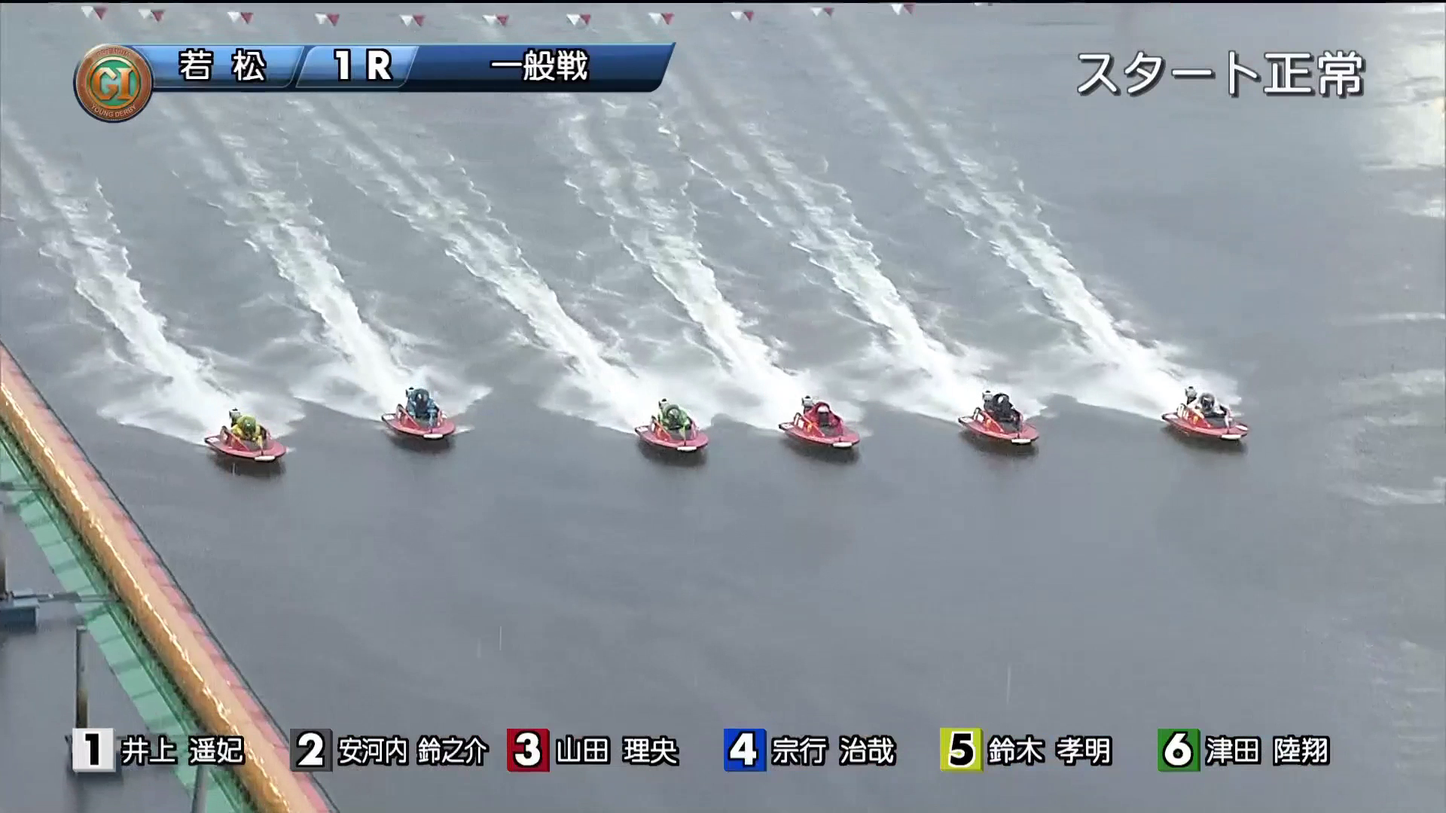１号艇: (1180, 412, 1257, 452)
２号艇: (770, 349, 859, 387)
３号艇: (713, 378, 804, 419)
４号艇: (662, 400, 767, 443)
５号艇: (538, 425, 659, 480)
６号艇: (558, 469, 658, 526)
